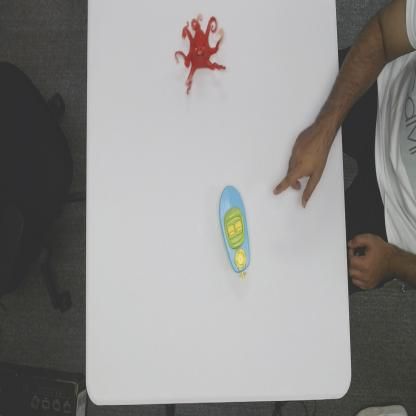Arm: (325, 19, 380, 134)
Boat: (221, 185, 252, 281)
Hand: (280, 126, 329, 206)
Octopus: (174, 14, 229, 91)
